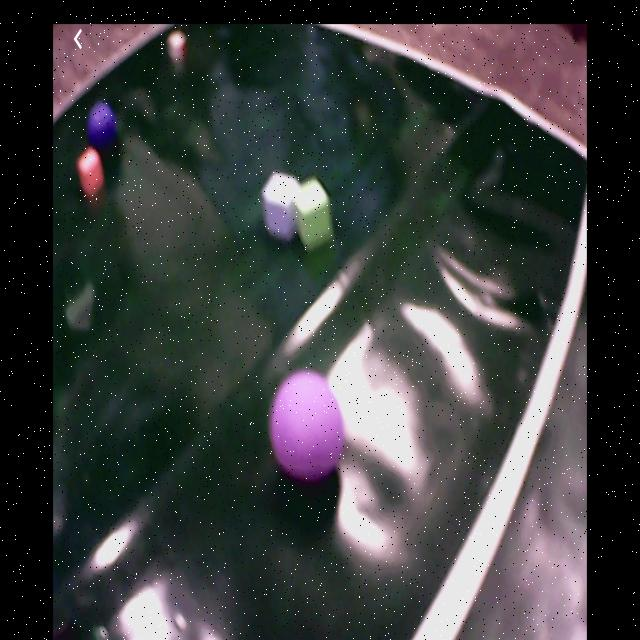ball: (271, 373, 346, 481), (86, 101, 116, 150)
